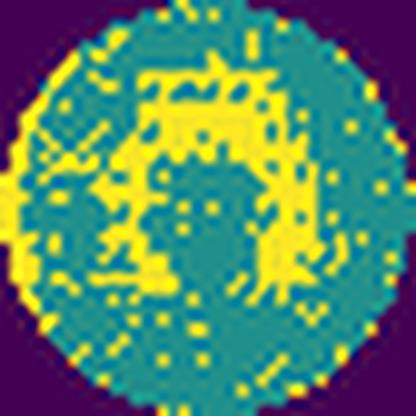Donut: (87, 44, 346, 308)
